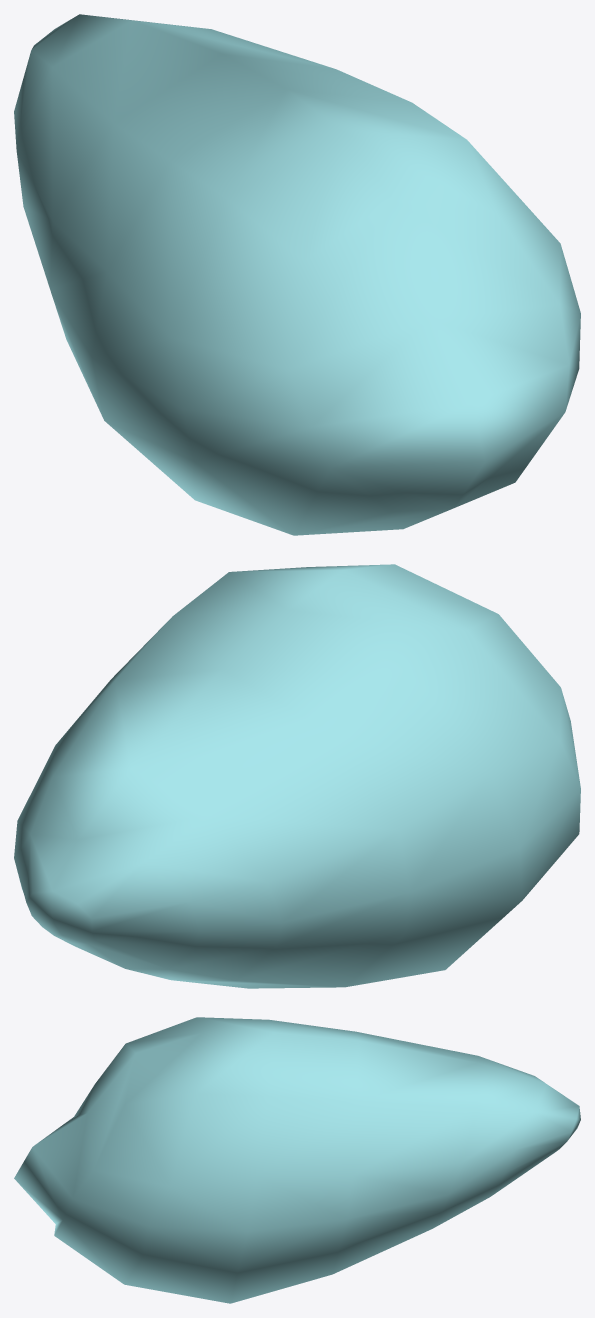
File: Shrimp_Fan_Caridid.fbx
3 renders of one model, top to bottom at view 1: azimuth 30°, elevation 25°; view 2: azimuth 150°, elevation 25°; view 3: azimuth 270°, elevation 25°, orthographic. The views are drawn at different scales.
Visible parts, largest first — view 1: Fan_low_LOD0.001, Fan_low_LOD0; view 2: Fan_low_LOD0.001, Fan_low_LOD0; view 3: Fan_low_LOD0.001, Fan_low_LOD0.
Boxes of the visible parts, left/top/right/bottom form: Fan_low_LOD0.001: left=16, top=14, right=580, bottom=535; Fan_low_LOD0: left=14, top=52, right=484, bottom=535; Fan_low_LOD0.001: left=17, top=564, right=580, bottom=903; Fan_low_LOD0: left=14, top=773, right=522, bottom=988; Fan_low_LOD0.001: left=14, top=1017, right=579, bottom=1283; Fan_low_LOD0: left=54, top=1106, right=580, bottom=1303.
Size of what is drawn, in the model's own units: 15.81 by 13.69 by 27.88.
